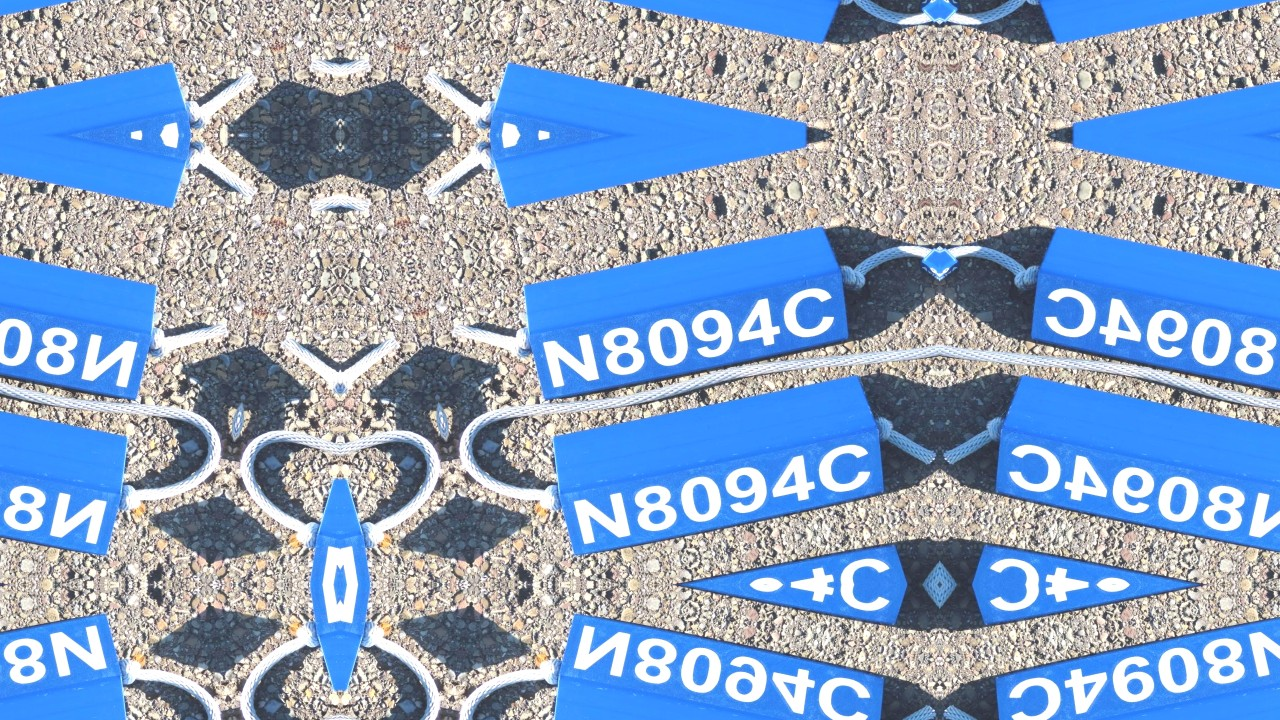chock: (545, 369, 891, 559), (516, 220, 852, 404), (989, 369, 1280, 559), (1028, 220, 1280, 404), (545, 611, 891, 720), (989, 611, 1280, 720), (0, 220, 164, 404), (478, 57, 814, 135), (478, 135, 814, 213), (0, 369, 135, 559), (516, 0, 852, 50), (1066, 57, 1280, 135), (1066, 135, 1280, 213), (0, 57, 202, 135), (0, 135, 202, 213), (0, 611, 135, 720), (1028, 0, 1280, 50), (0, 0, 164, 50)
